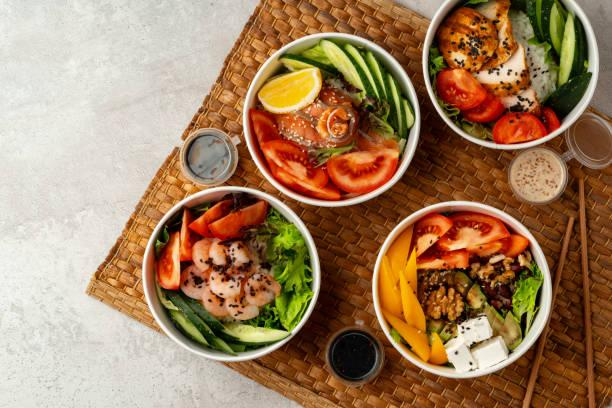Braised Crucian Carp: (374, 202, 549, 381), (143, 186, 317, 363), (245, 32, 417, 208), (421, 1, 594, 153)
